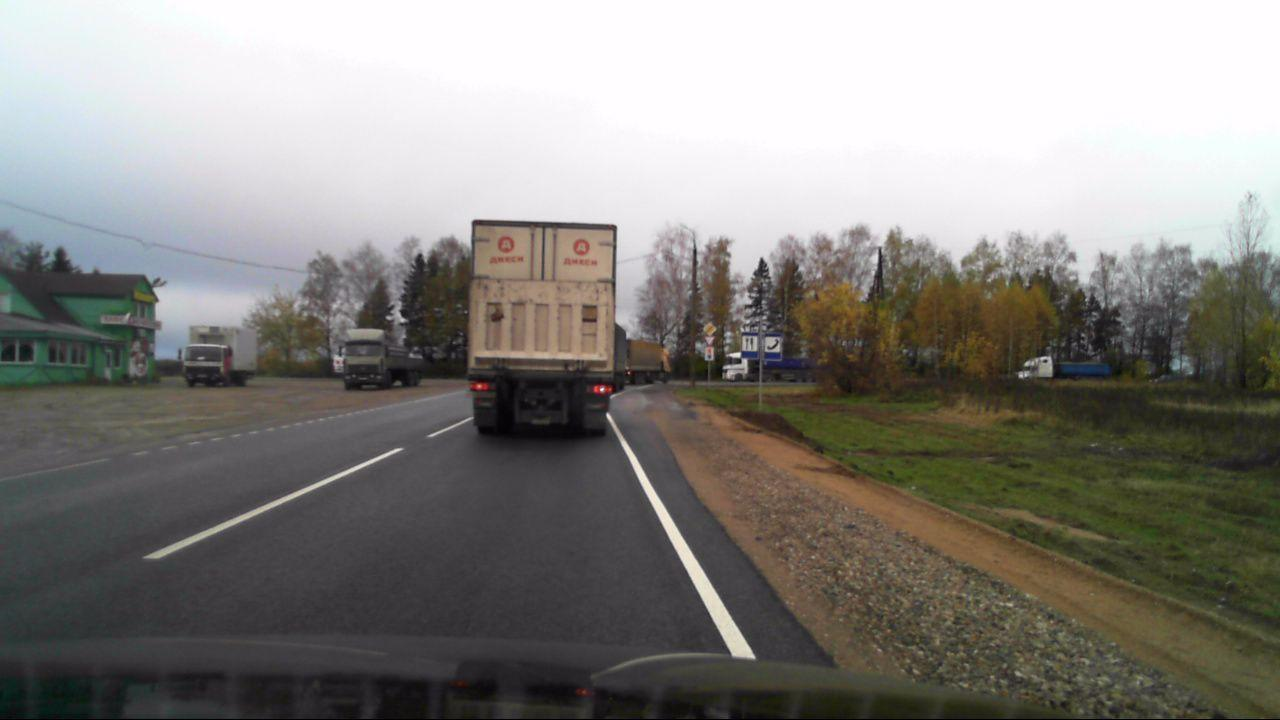2_2: (702, 319, 717, 335)
2_4: (703, 335, 716, 347)
4_8_2: (704, 348, 716, 362)
7_6: (763, 331, 781, 361)
7_7: (741, 332, 759, 360)
